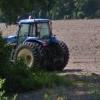Tractor: (4, 11, 75, 79)
